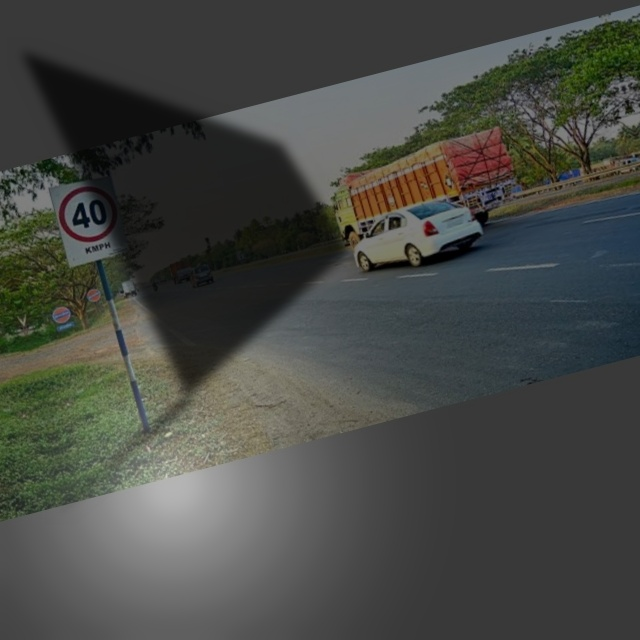Speed_Limit_40: (48, 169, 134, 271)
